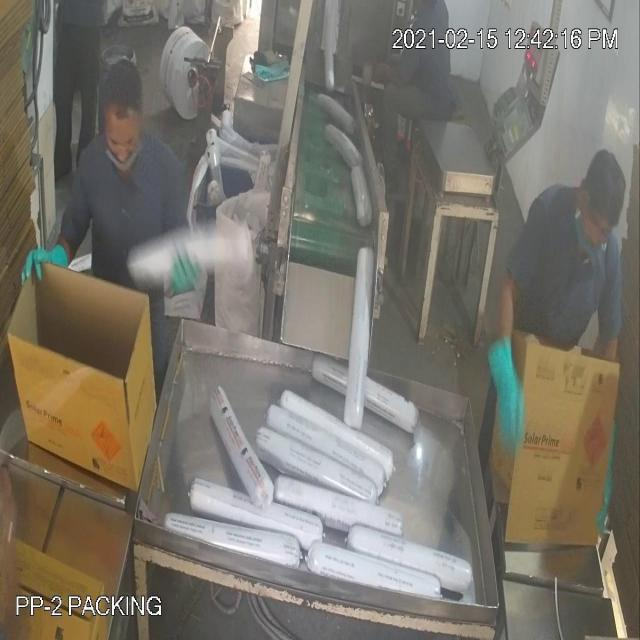Gloves: (480, 320, 534, 460)
